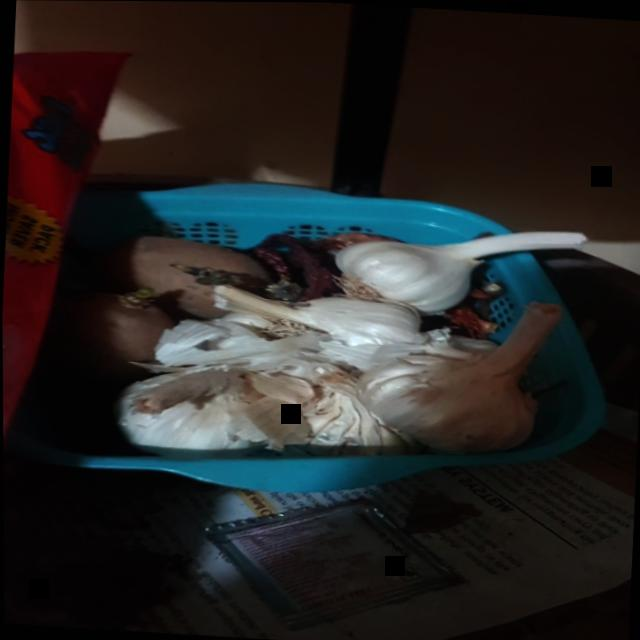garlic: (332, 273, 576, 466), (315, 197, 600, 316), (109, 348, 295, 473)
